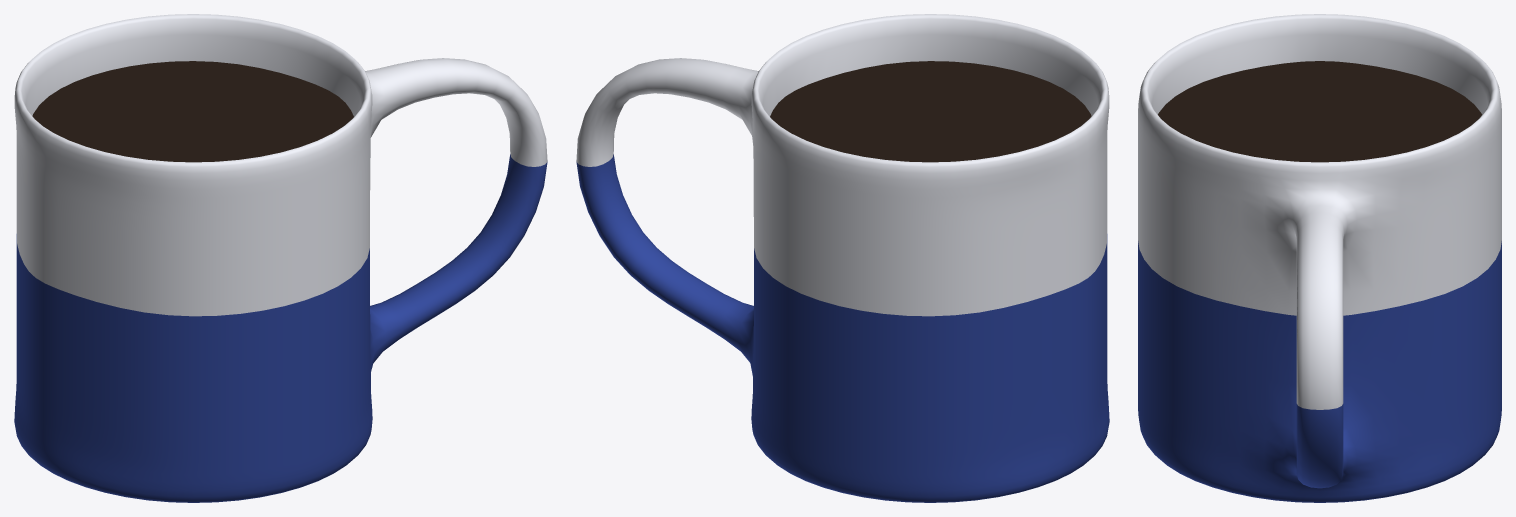
File: CoffeeCupFull.fbx
3 views of the same model, side by side, from view 1: azimuth 30°, elevation 25°; view 2: azimuth 150°, elevation 25°; view 3: azimuth 270°, elevation 25° (orthographic).
Visible parts, largest first — view 1: CupV3; view 2: CupV3; view 3: CupV3.
Part boxes in pixels (left/top/right/bottom): CupV3: left=14, top=14, right=547, bottom=502; CupV3: left=576, top=14, right=1109, bottom=502; CupV3: left=1138, top=14, right=1501, bottom=502.
Bounding box in the file's own units: 12.32 × 7.66 × 7.95.
